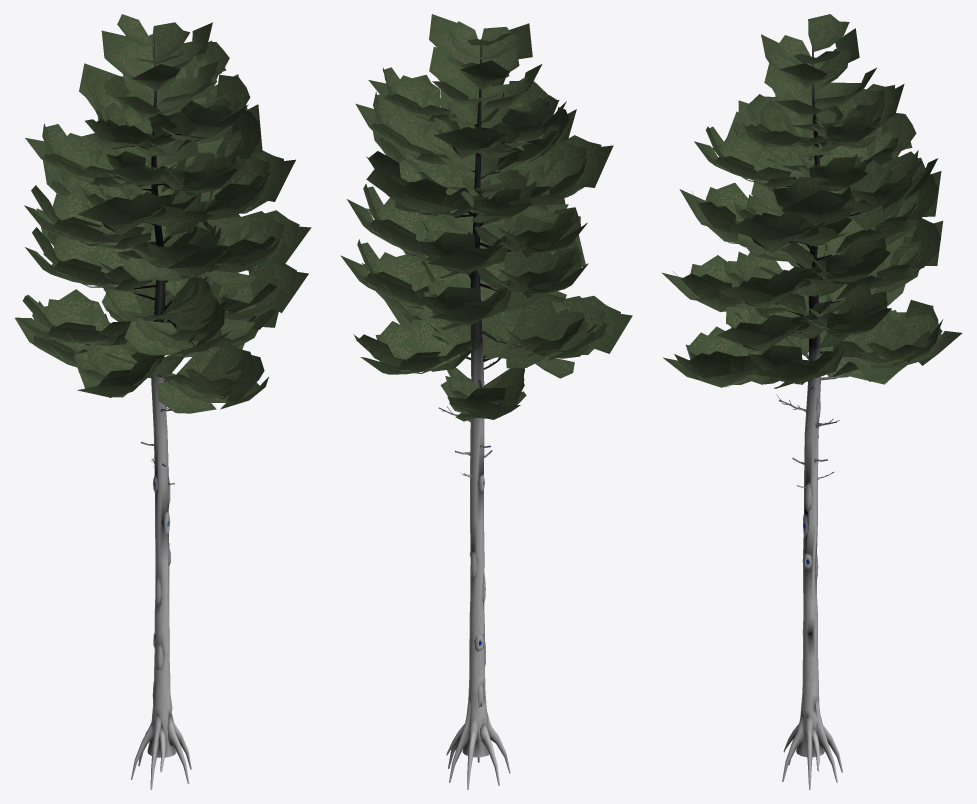
File: PW_Tree_Pine_02_Long.fbx
3 renders of one model, left to right at view 1: azimuth 30°, elevation 25°; view 2: azimuth 150°, elevation 25°; view 3: azimuth 270°, elevation 25°, orthographic.
Visible parts, largest first — view 1: PW_Tree_Hero_LongPine_02_LOD0; view 2: PW_Tree_Hero_LongPine_02_LOD0; view 3: PW_Tree_Hero_LongPine_02_LOD0.
Boxes of the visible parts, x1,y1,x2,y2 form: PW_Tree_Hero_LongPine_02_LOD0: (15,14,311,789); PW_Tree_Hero_LongPine_02_LOD0: (340,14,632,789); PW_Tree_Hero_LongPine_02_LOD0: (662,14,962,789).
Size of what is drawn, in the model's own units: 517 by 1513 by 555.
